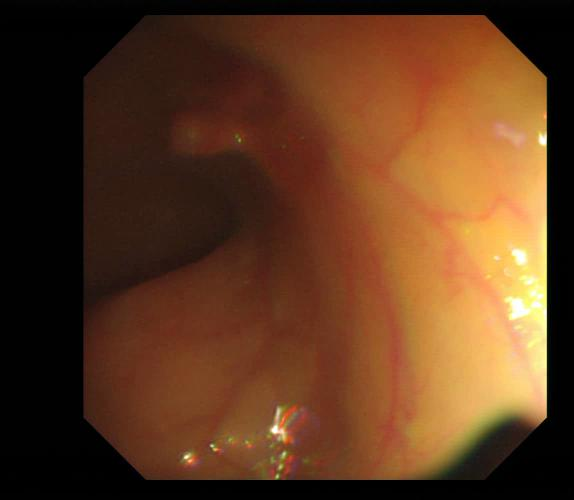polyp: (174, 107, 239, 155)
